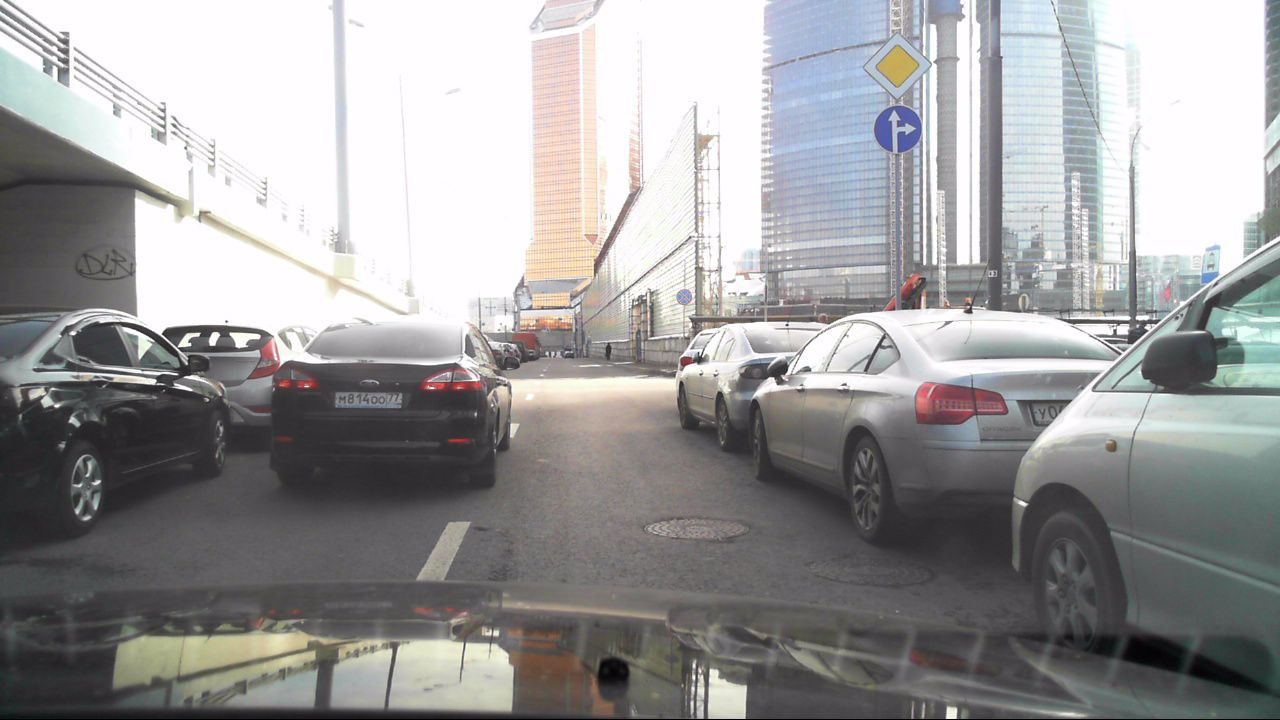No Parking: (675, 287, 692, 307)
